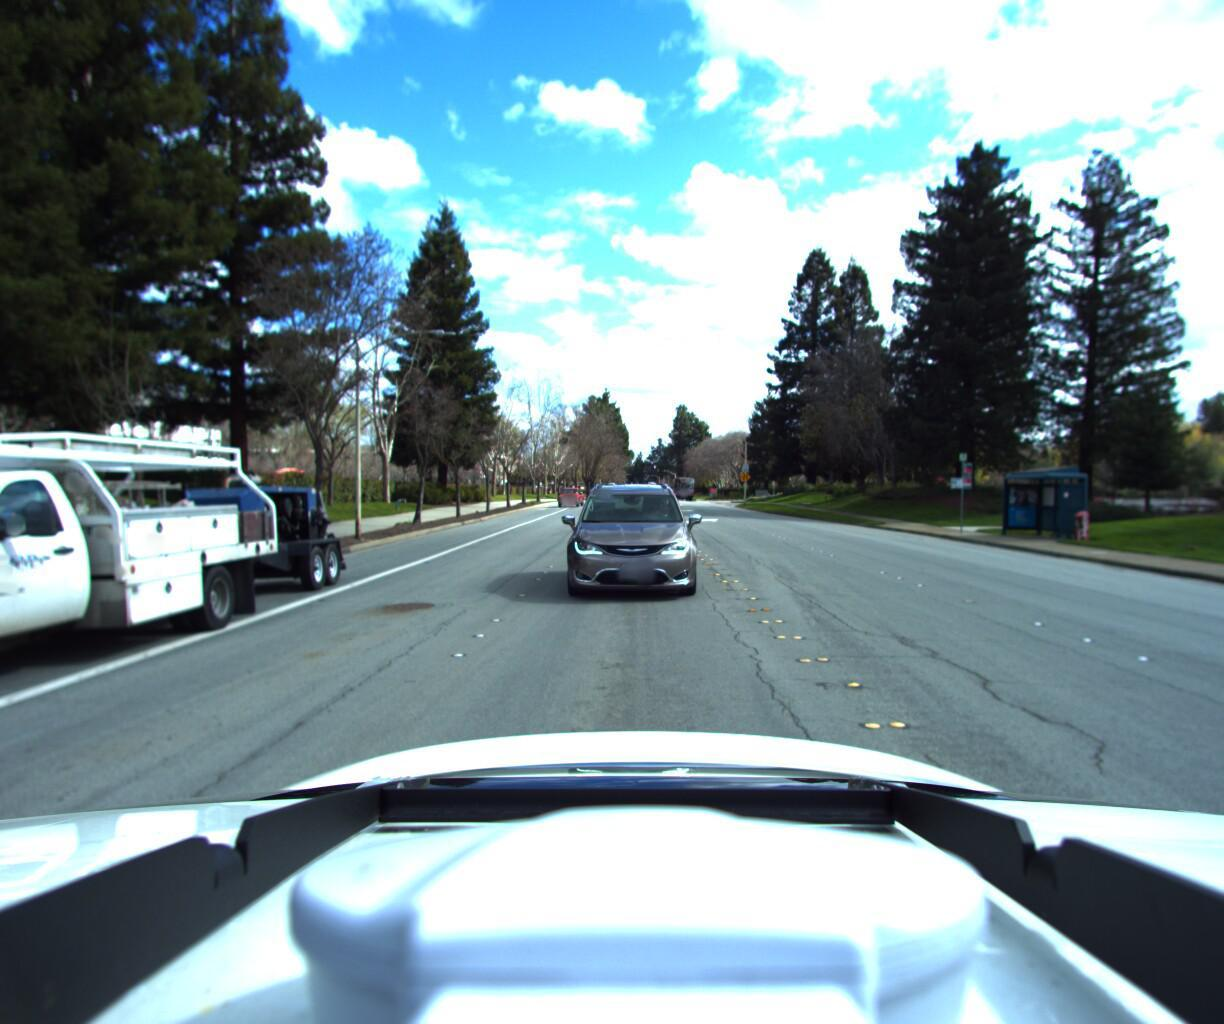car: (556, 471, 708, 611), (552, 496, 583, 515)
truck: (0, 386, 389, 788)
